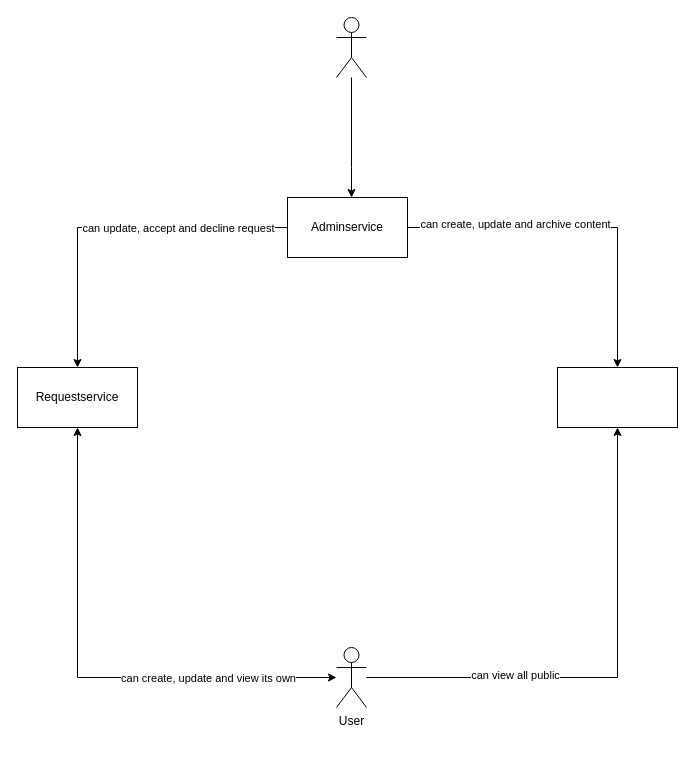
Some shapes in this 695 by 761 pixel diagram are drawn without their labels. The shapes that lost their labels are listed below. From the top down, each one's box as (x1, y1, x2, y2) in pixels, then its label:
(336, 16, 366, 78): Admin
(556, 366, 678, 428): Contentservice
